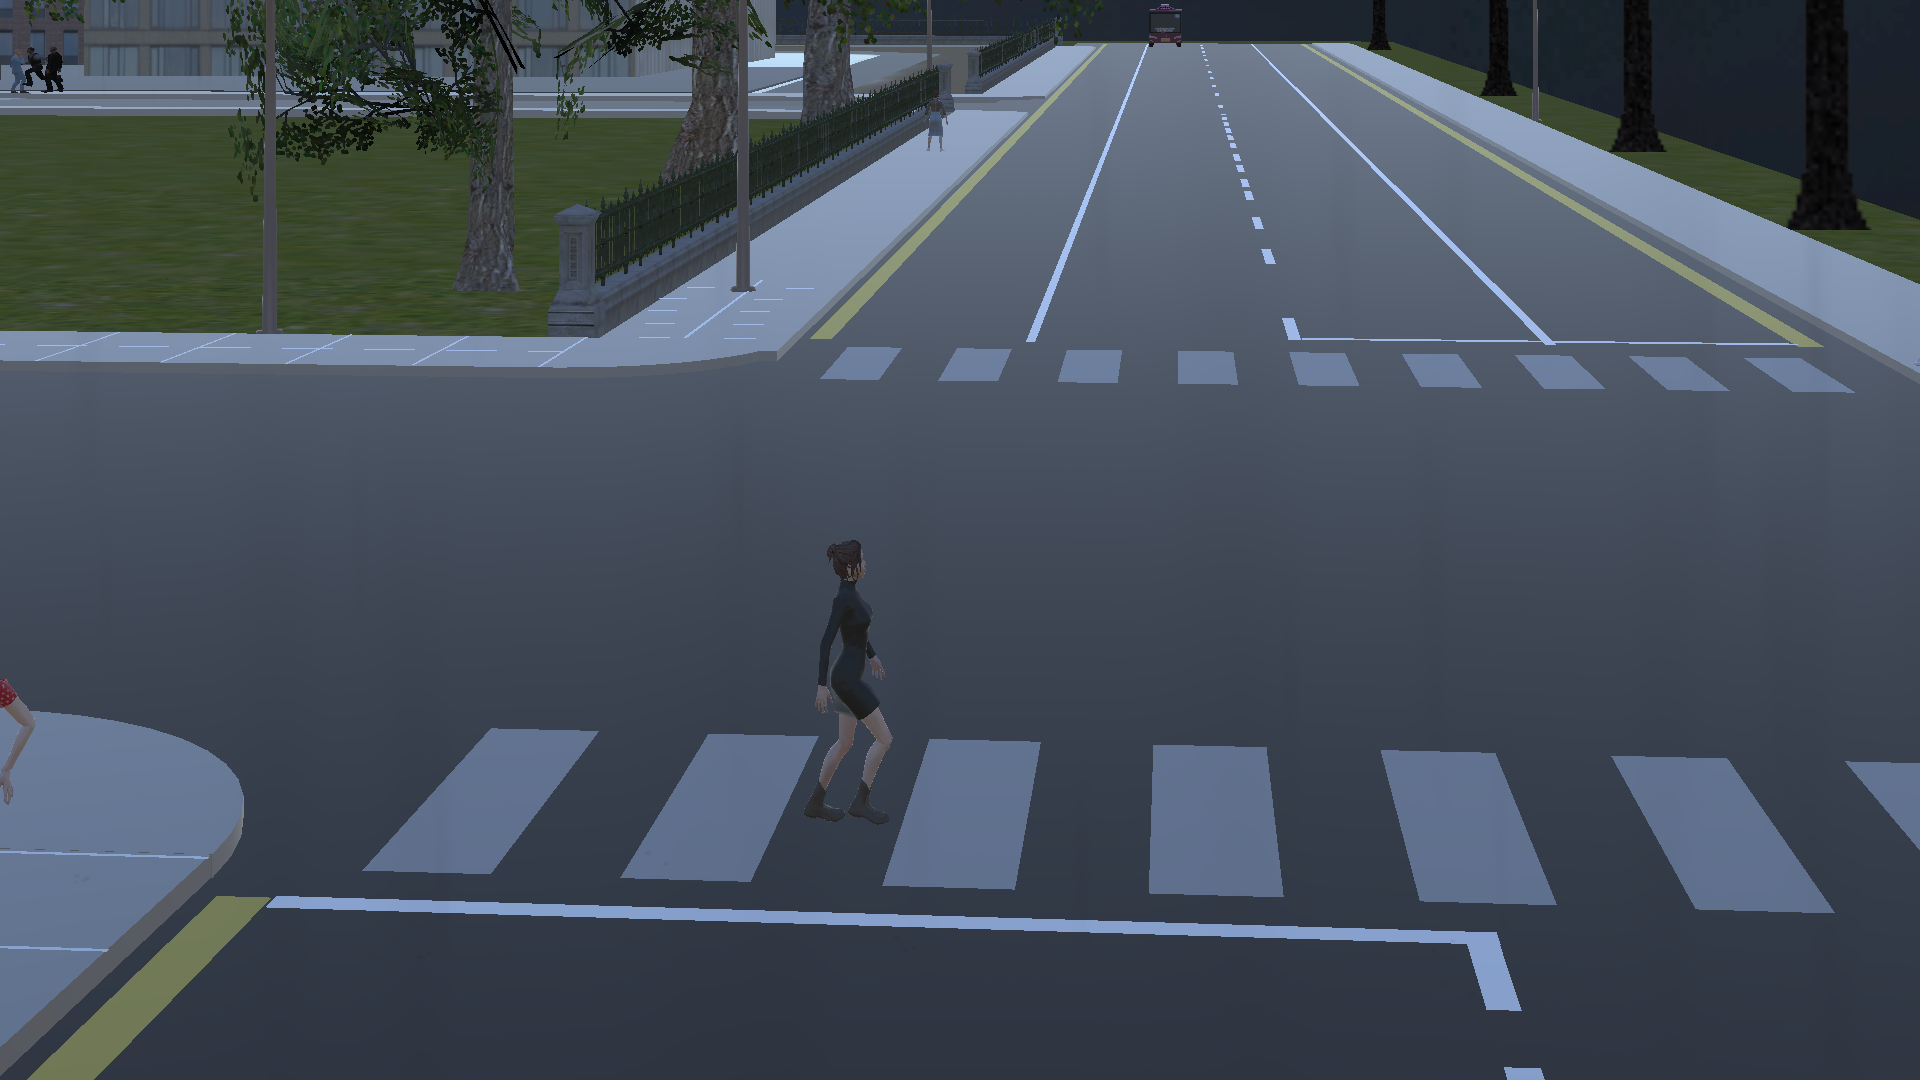pedestrian: (798, 516, 903, 817), (912, 84, 954, 162)
